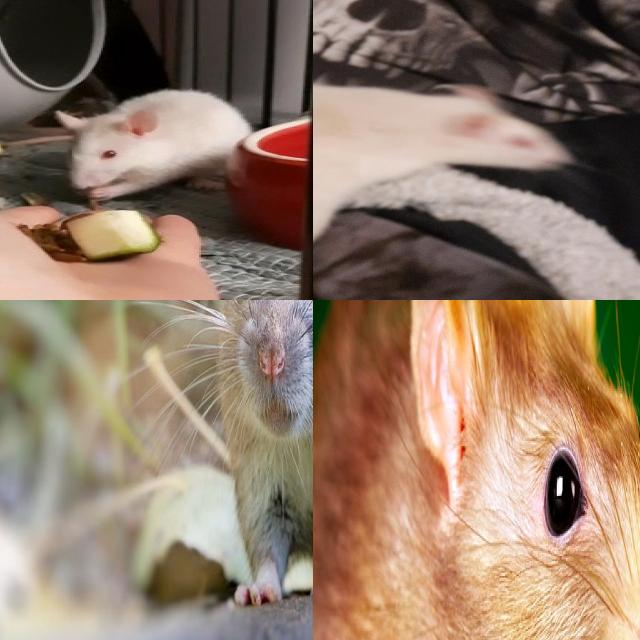rat: (313, 300, 640, 640), (313, 86, 570, 283), (205, 300, 313, 602), (52, 86, 250, 198)
